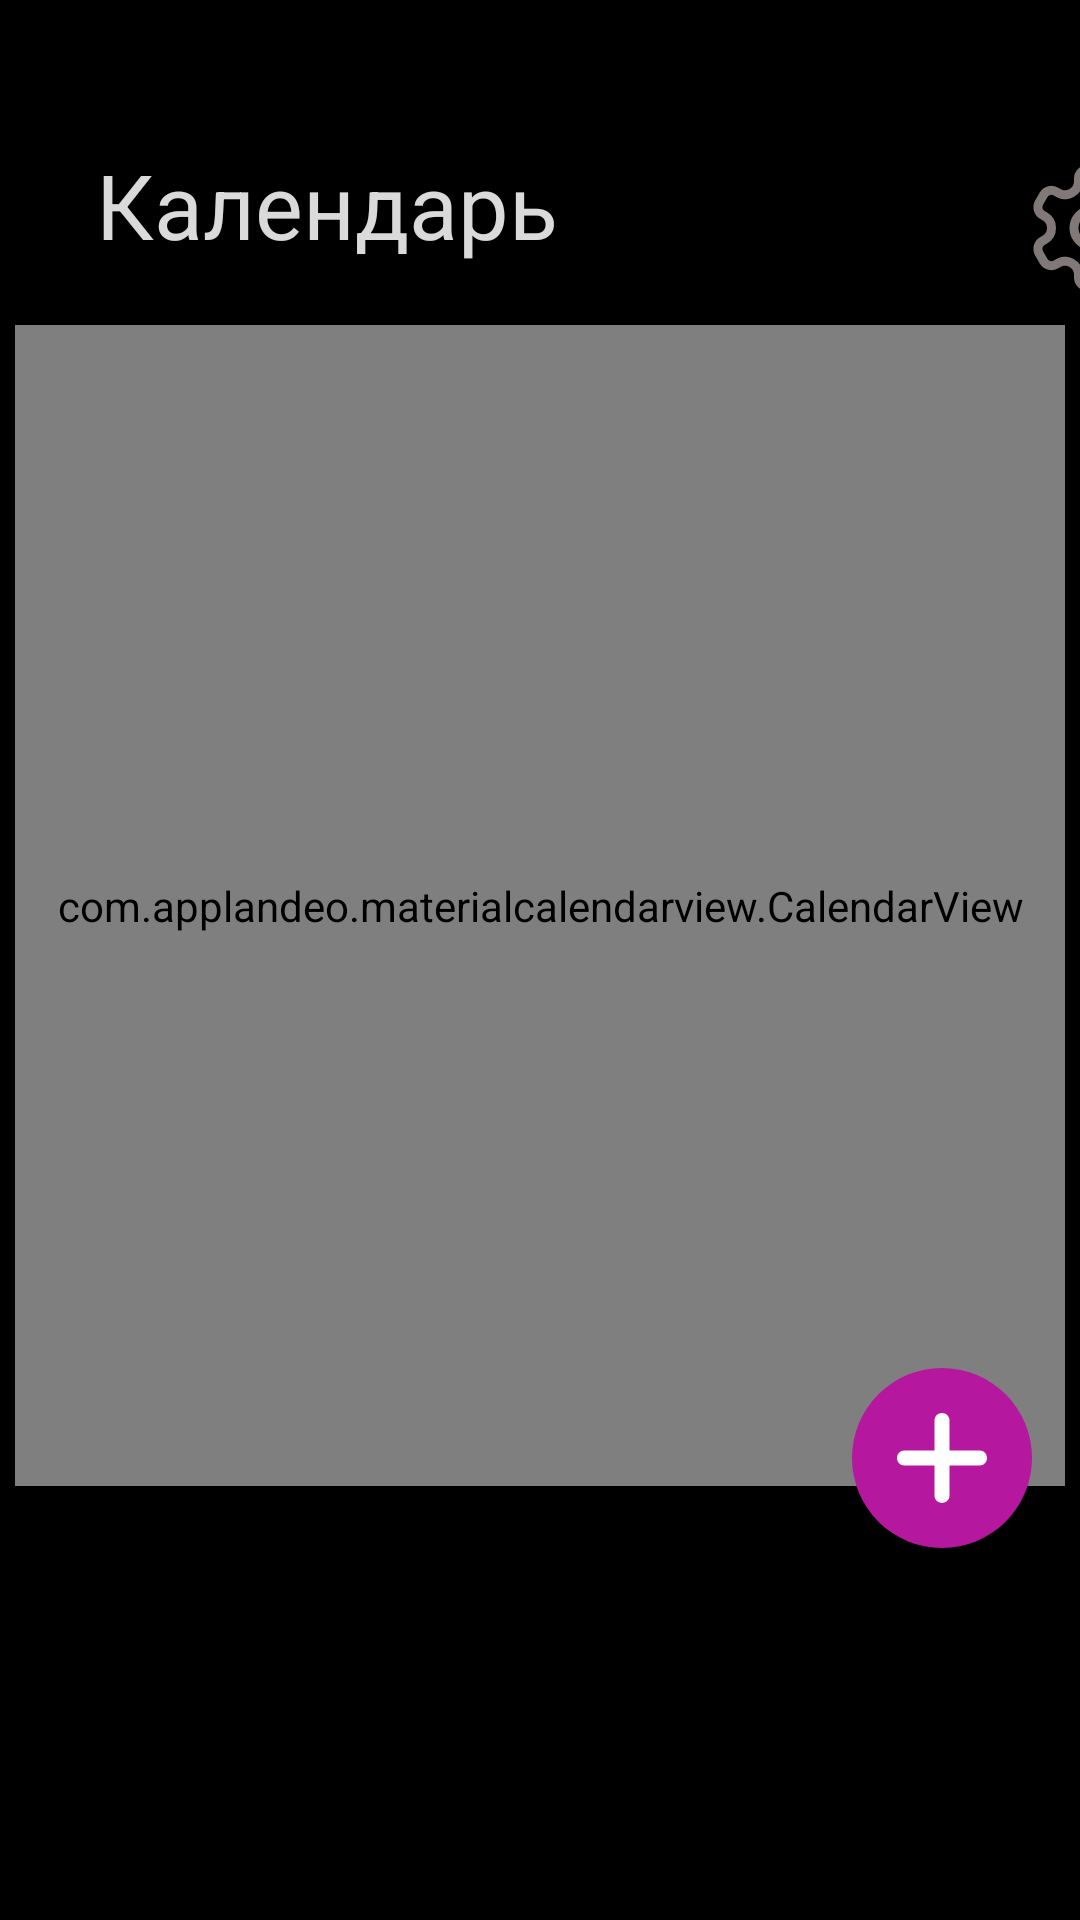

Icons on this 1080w x 1920h Android screen, each with the point to tap as (x,y):
plus: (942,1458)
